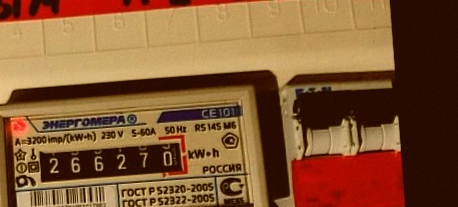0: (161, 149, 174, 167)
2: (46, 155, 61, 174), (115, 151, 127, 170)
6: (69, 155, 83, 174), (92, 154, 106, 173)
7: (138, 150, 150, 168)
screen: (28, 131, 194, 191)
